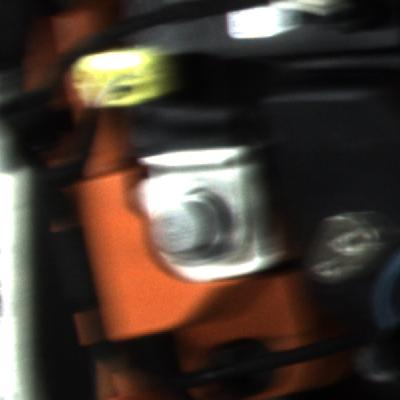nut_b: (145, 179, 234, 271)
